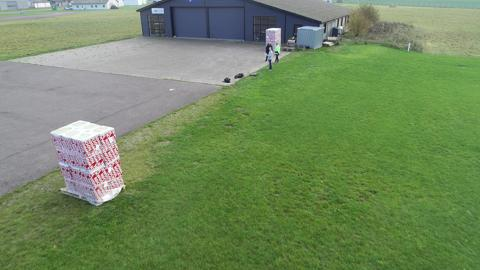RockwoolPallet: (49, 120, 125, 204)
